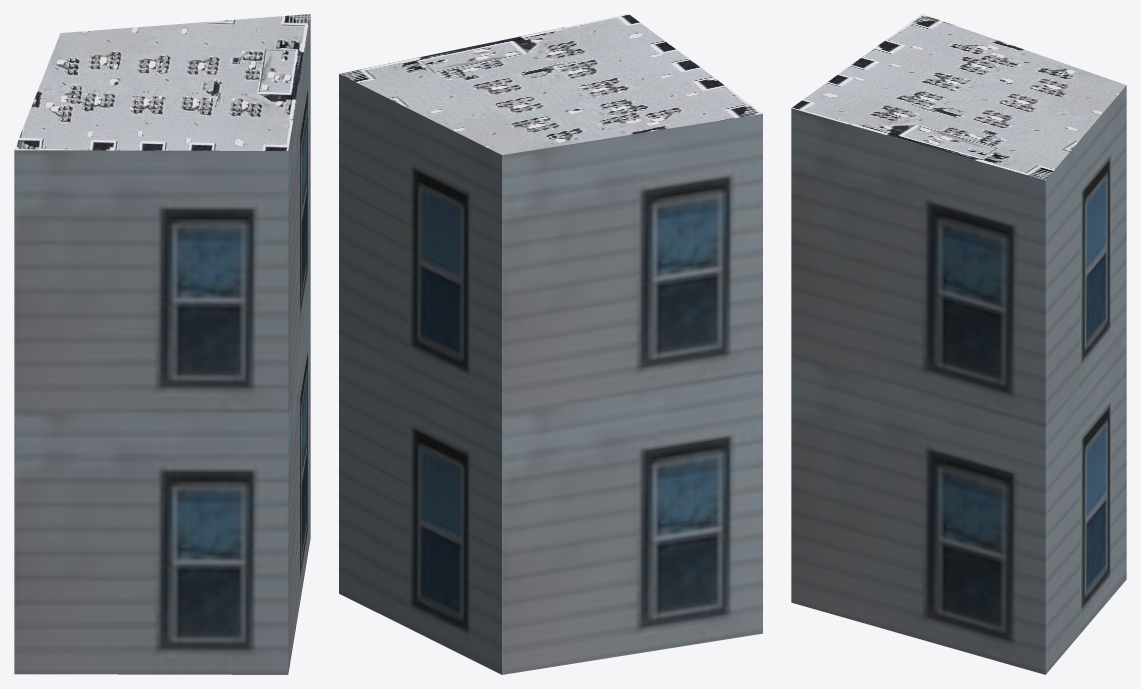
File: ResTex__3999.fbx
3 views of the same model, side by side, from view 1: azimuth 30°, elevation 25°; view 2: azimuth 150°, elevation 25°; view 3: azimuth 270°, elevation 25° (orthographic). The views are drawn at different scales.
Visible parts, largest first — view 1: CityEngineMaterial_18_m, CityEngineMaterial_m; view 2: CityEngineMaterial_18_m, CityEngineMaterial_m; view 3: CityEngineMaterial_18_m, CityEngineMaterial_m.
Part boxes in pixels (x1=…): CityEngineMaterial_18_m: x1=14, y1=15, x2=310, y2=674; CityEngineMaterial_m: x1=14, y1=14, x2=310, y2=150; CityEngineMaterial_18_m: x1=339, y1=74, x2=762, y2=674; CityEngineMaterial_m: x1=339, y1=14, x2=762, y2=154; CityEngineMaterial_18_m: x1=791, y1=85, x2=1126, y2=674; CityEngineMaterial_m: x1=791, y1=14, x2=1126, y2=180.
Bounding box in the file's own units: 4.34 × 6 × 3.69.
Materials: 2 (2 with a texture image).
